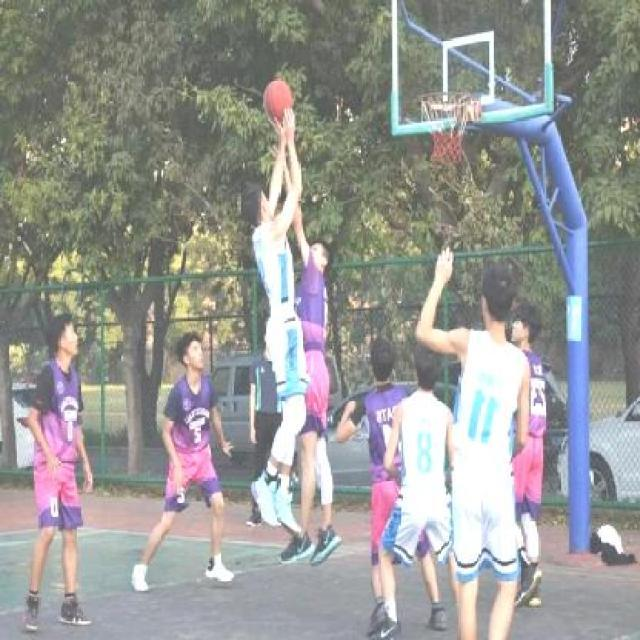Ball: (262, 78, 300, 120)
